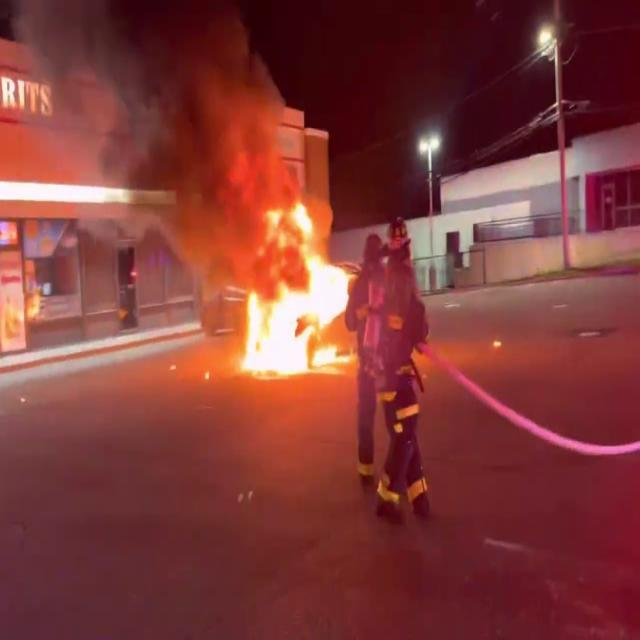Fire: (227, 190, 363, 378)
Smoke: (39, 0, 286, 220)
